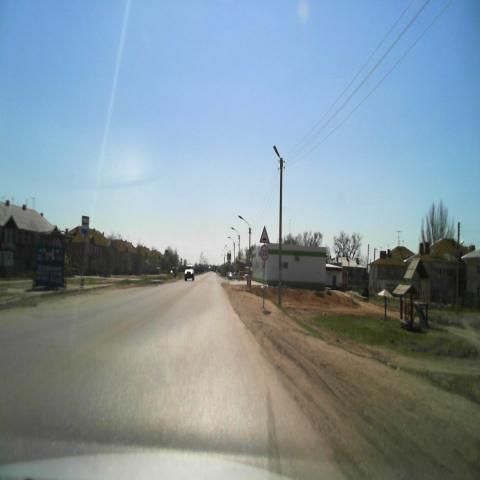1_17: (258, 225, 269, 243)
3_24: (260, 245, 269, 261)
5_16: (82, 216, 90, 234)
